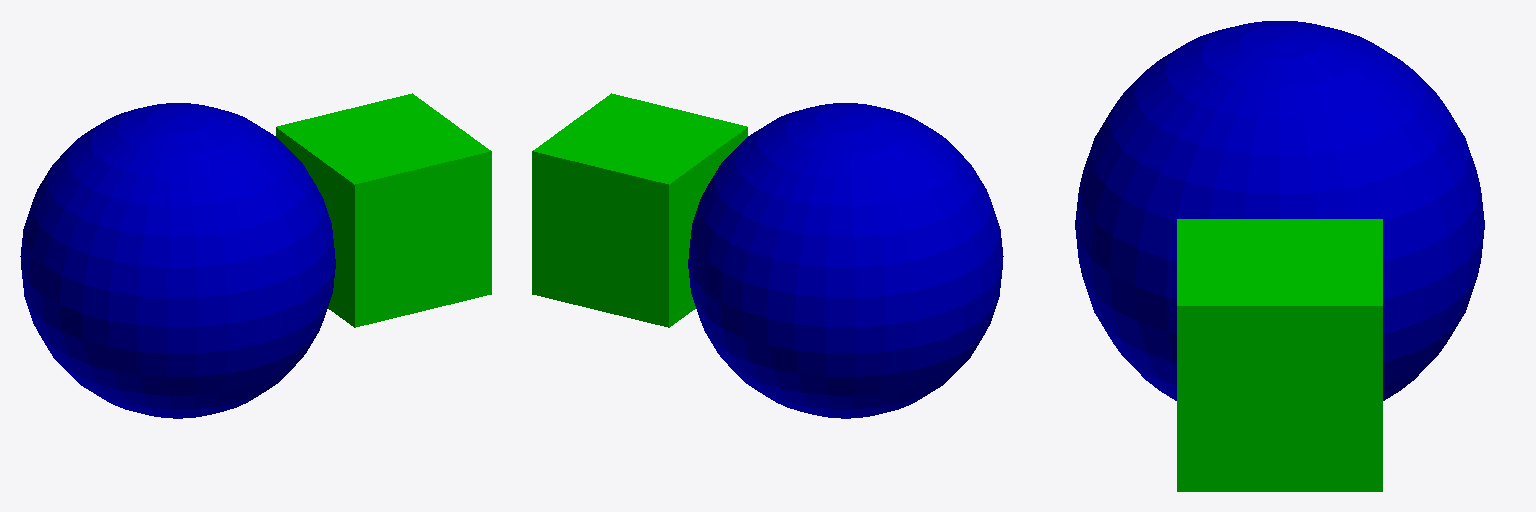
robot.urdf — A_vs_B:
<?xml version="1.0"?>
<robot name="A_vs_B">
  <material name="blue">
    <color rgba="0 0 0.8 .5"/>
  </material>
  <material name="green">
    <color rgba="0 0.8 0 .5"/>
  </material>
  <link name="A">
    <visual>
      <geometry>
        <sphere radius="1"/>
      </geometry>
      <origin rpy="0.0 0 0" xyz="-1 0 0"/>
      <material name="blue"/>
    </visual>
  </link>
  <link name="B">
    <visual>
      <geometry>
        <box size="1 1 1"/>
      </geometry>
      <origin rpy="0 0 0" xyz="0.5 0 0"/>
      <material name="green"/>
    </visual>
  </link>
  <joint name="joint1" type="revolute">
    <axis xyz="0 0 1"/>
    <limit effort="1" lower="-1" upper="1" velocity="1"/>
    <origin rpy="0 0 0" xyz="0 0 0"/>
    <parent link="A"/>
    <child link="B"/>
  </joint>
</robot>

--- Render facts (derived) ---
The picture shows the robot from 3 angles, left to right: view 1: azimuth 30°, elevation 25°; view 2: azimuth 150°, elevation 25°; view 3: azimuth 270°, elevation 25°; orthographic projection.
Model A_vs_B with 2 links and 1 joints (1 revolute), rooted at A, posed every joint at zero.
Visible links, largest first — view 1: A, B; view 2: A, B; view 3: A, B.
Boxes of the visible links, x1,y1,x2,y2 form: A: (20, 103, 335, 418); B: (276, 93, 491, 327); A: (688, 103, 1003, 418); B: (532, 93, 747, 327); A: (1075, 21, 1484, 400); B: (1177, 219, 1382, 491).
Size in the robot's own frame: 3 by 2 by 2 metres.
Geometry: primitives only (box / cylinder / sphere), no mesh files.